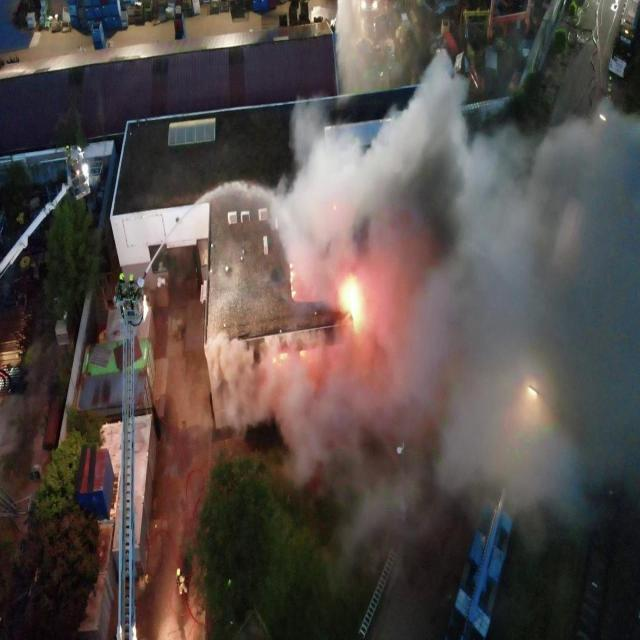Fire: (341, 278, 360, 322), (290, 271, 296, 283), (280, 353, 288, 360), (291, 290, 296, 298), (300, 351, 306, 356), (272, 357, 276, 364), (290, 263, 294, 268), (290, 286, 294, 290)
Smoke: (204, 48, 640, 554)
